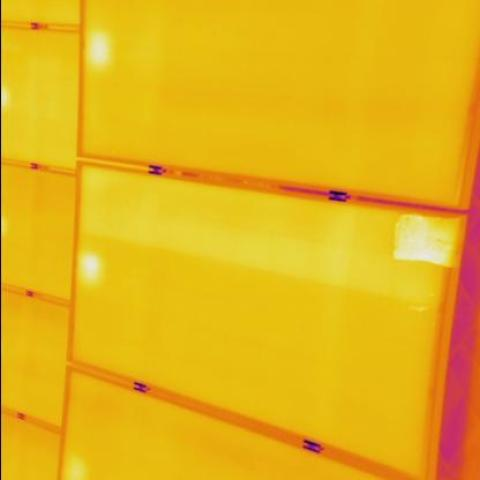fault: (391, 216, 452, 261), (73, 256, 100, 281), (86, 34, 110, 61)
